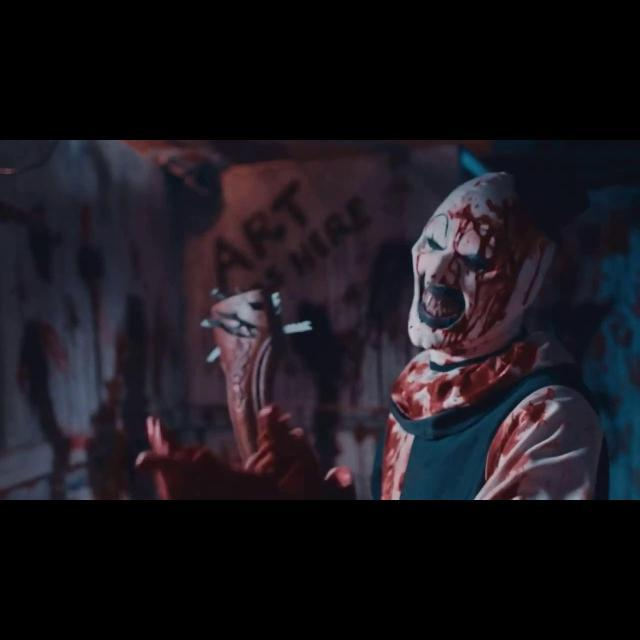blood: (0, 172, 640, 500), (472, 376, 610, 500)
